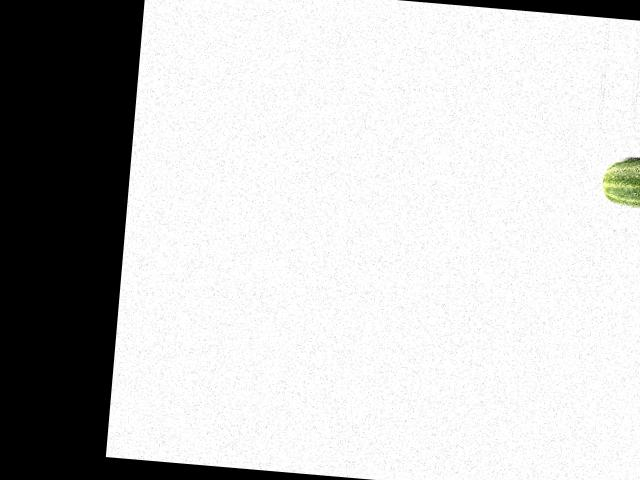cucumber: (601, 155, 640, 211)
